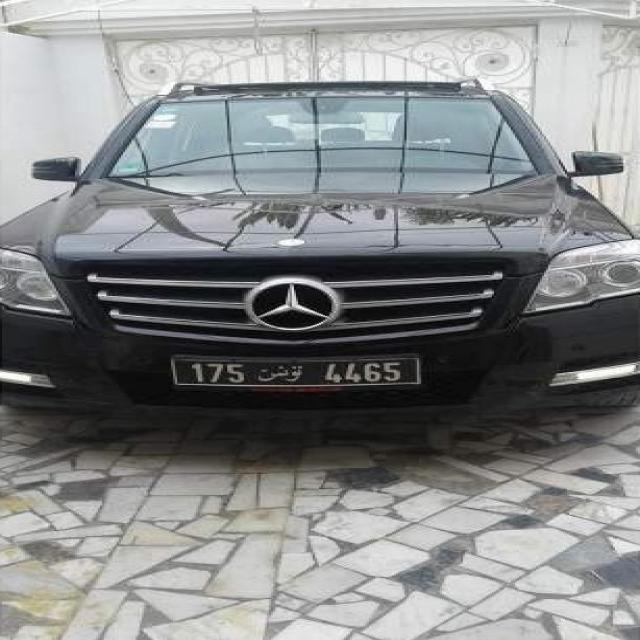licence plate: (175, 359, 418, 383)
